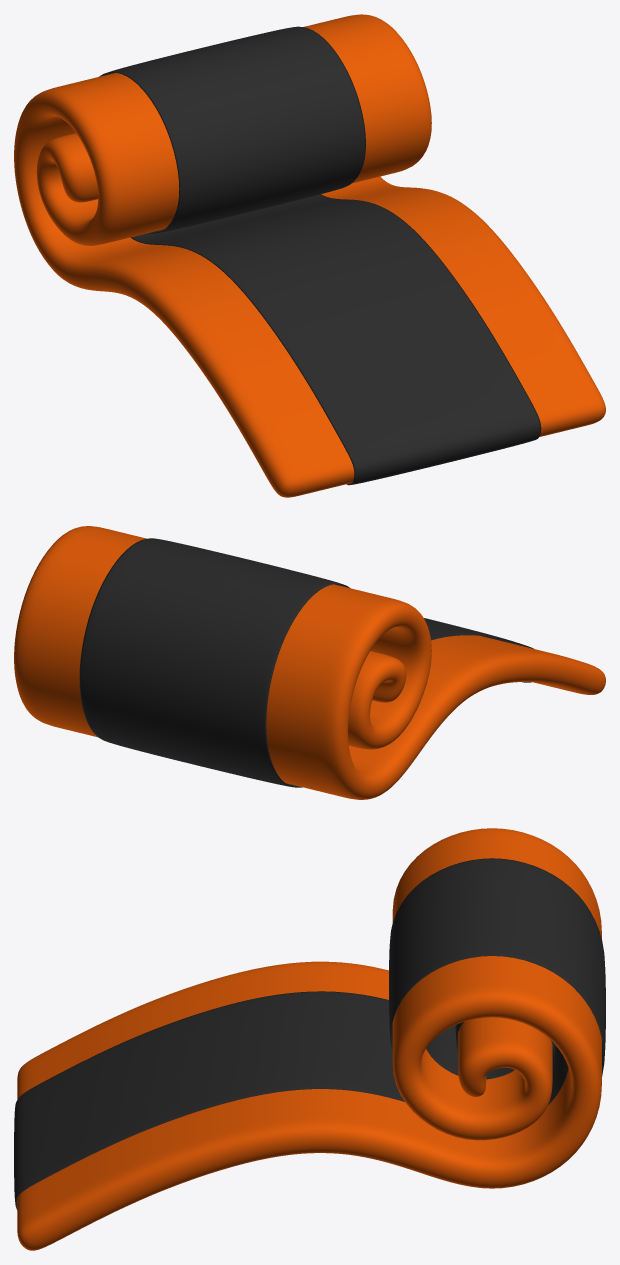
Rendered from meditation-animated-3d-icon-619326563645.glb.
3 renders of one model, top to bottom at view 1: azimuth 30°, elevation 25°; view 2: azimuth 150°, elevation 25°; view 3: azimuth 270°, elevation 25°, orthographic. The views are drawn at different scales.
Visible parts, largest first — view 1: Detail.002, Mattress; view 2: Mattress, Detail.002; view 3: Mattress, Detail.002.
Boxes of the visible parts, x1,y1,x2,y2 form: Detail.002: (99, 26, 541, 485); Mattress: (14, 14, 605, 497); Mattress: (14, 526, 605, 799); Detail.002: (79, 538, 533, 787); Mattress: (17, 828, 601, 1250); Detail.002: (14, 858, 605, 1209).
Bounding box in the file's own units: 2.04 × 1.43 × 2.85.
